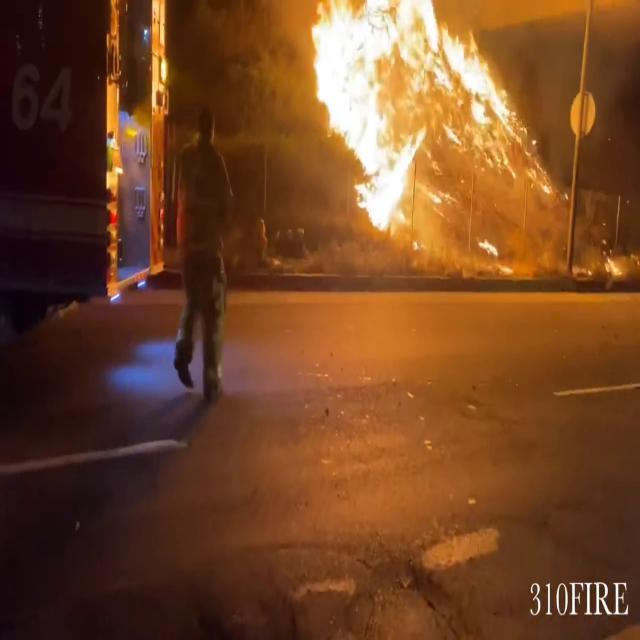Fire: (294, 0, 504, 248)
